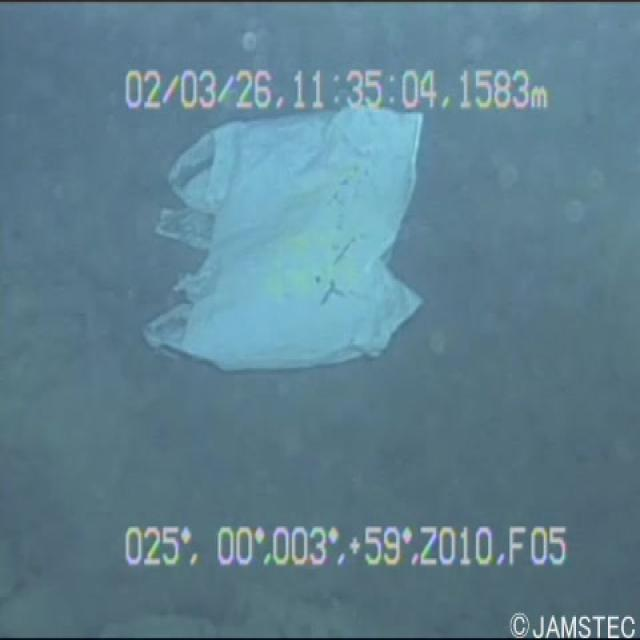plastic: (136, 89, 432, 402)
